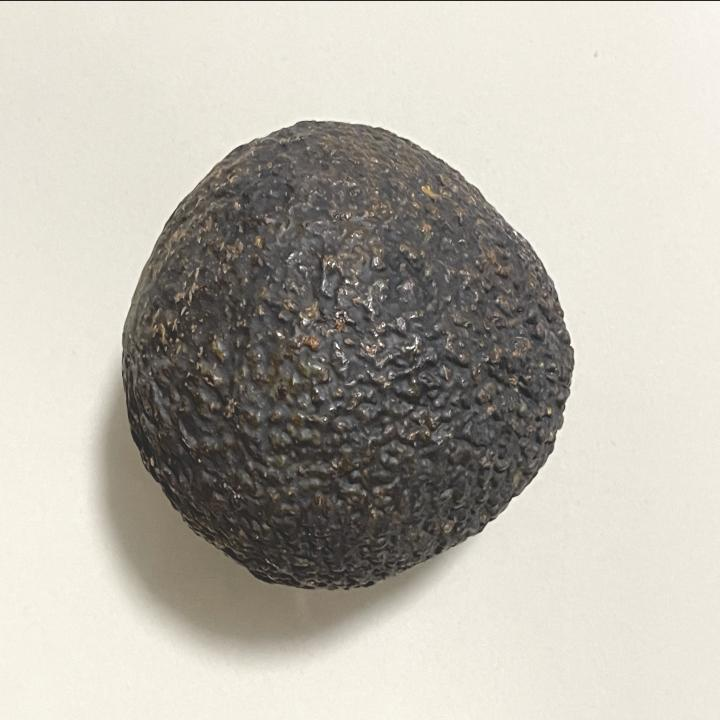Level2: (114, 112, 580, 596)
